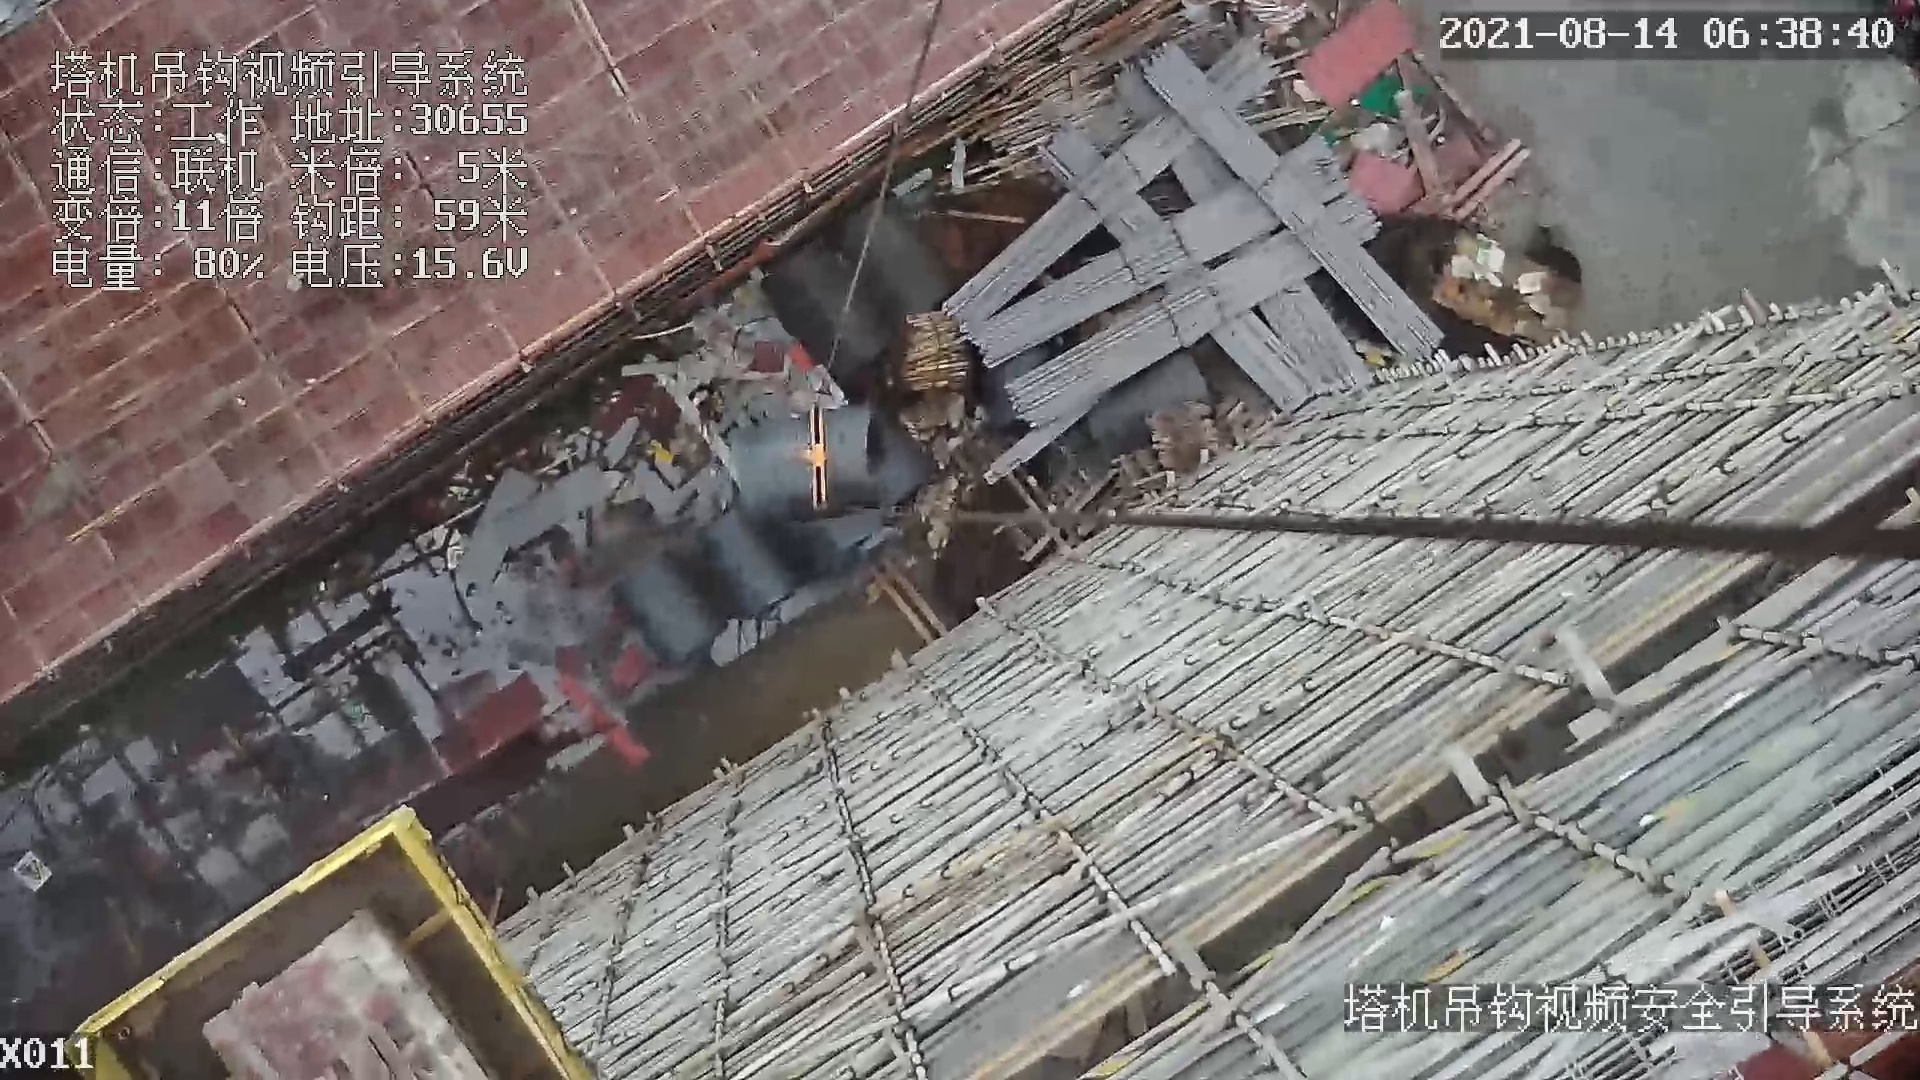hook: (796, 400, 833, 510)
